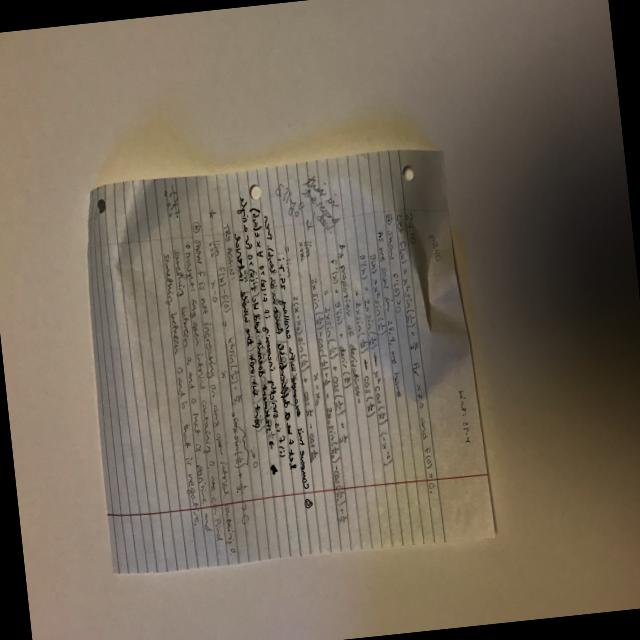Paper: (69, 144, 496, 578)
